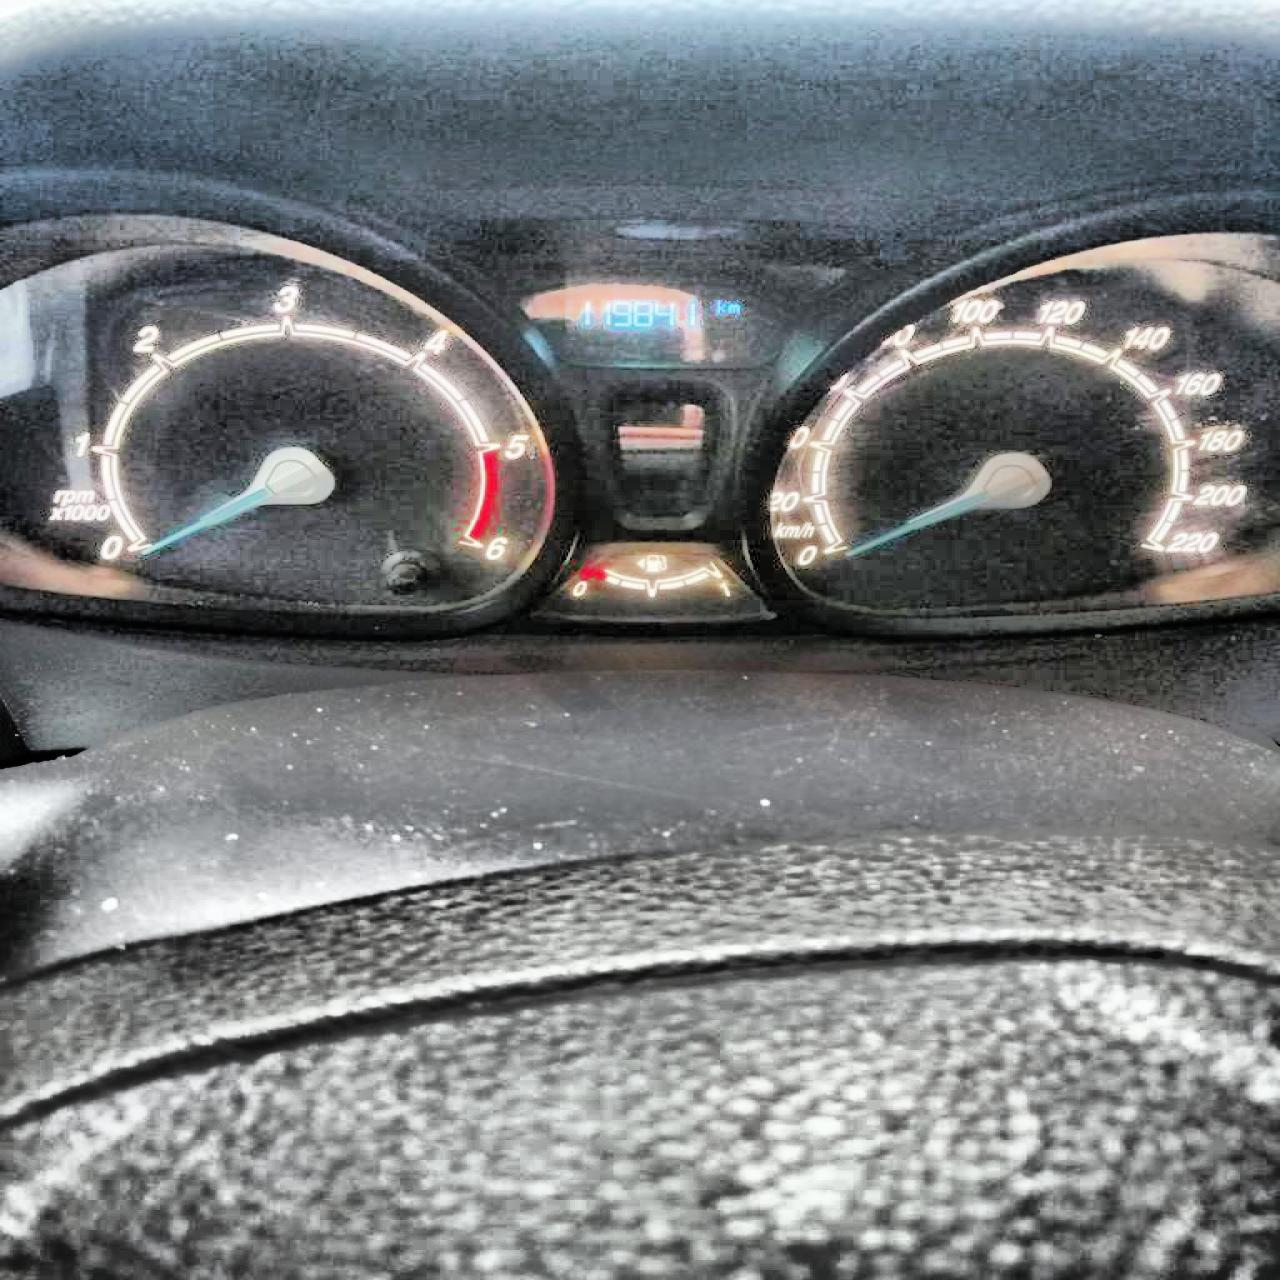1: (683, 300, 699, 329), (581, 298, 592, 324), (600, 299, 610, 327)
4: (652, 299, 676, 326)
8: (632, 299, 652, 326)
9: (612, 298, 632, 327)
X: (713, 298, 727, 313), (727, 301, 738, 313)
odometer: (557, 284, 762, 345)
